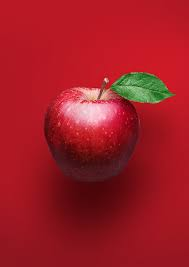apple: (45, 71, 175, 186)
